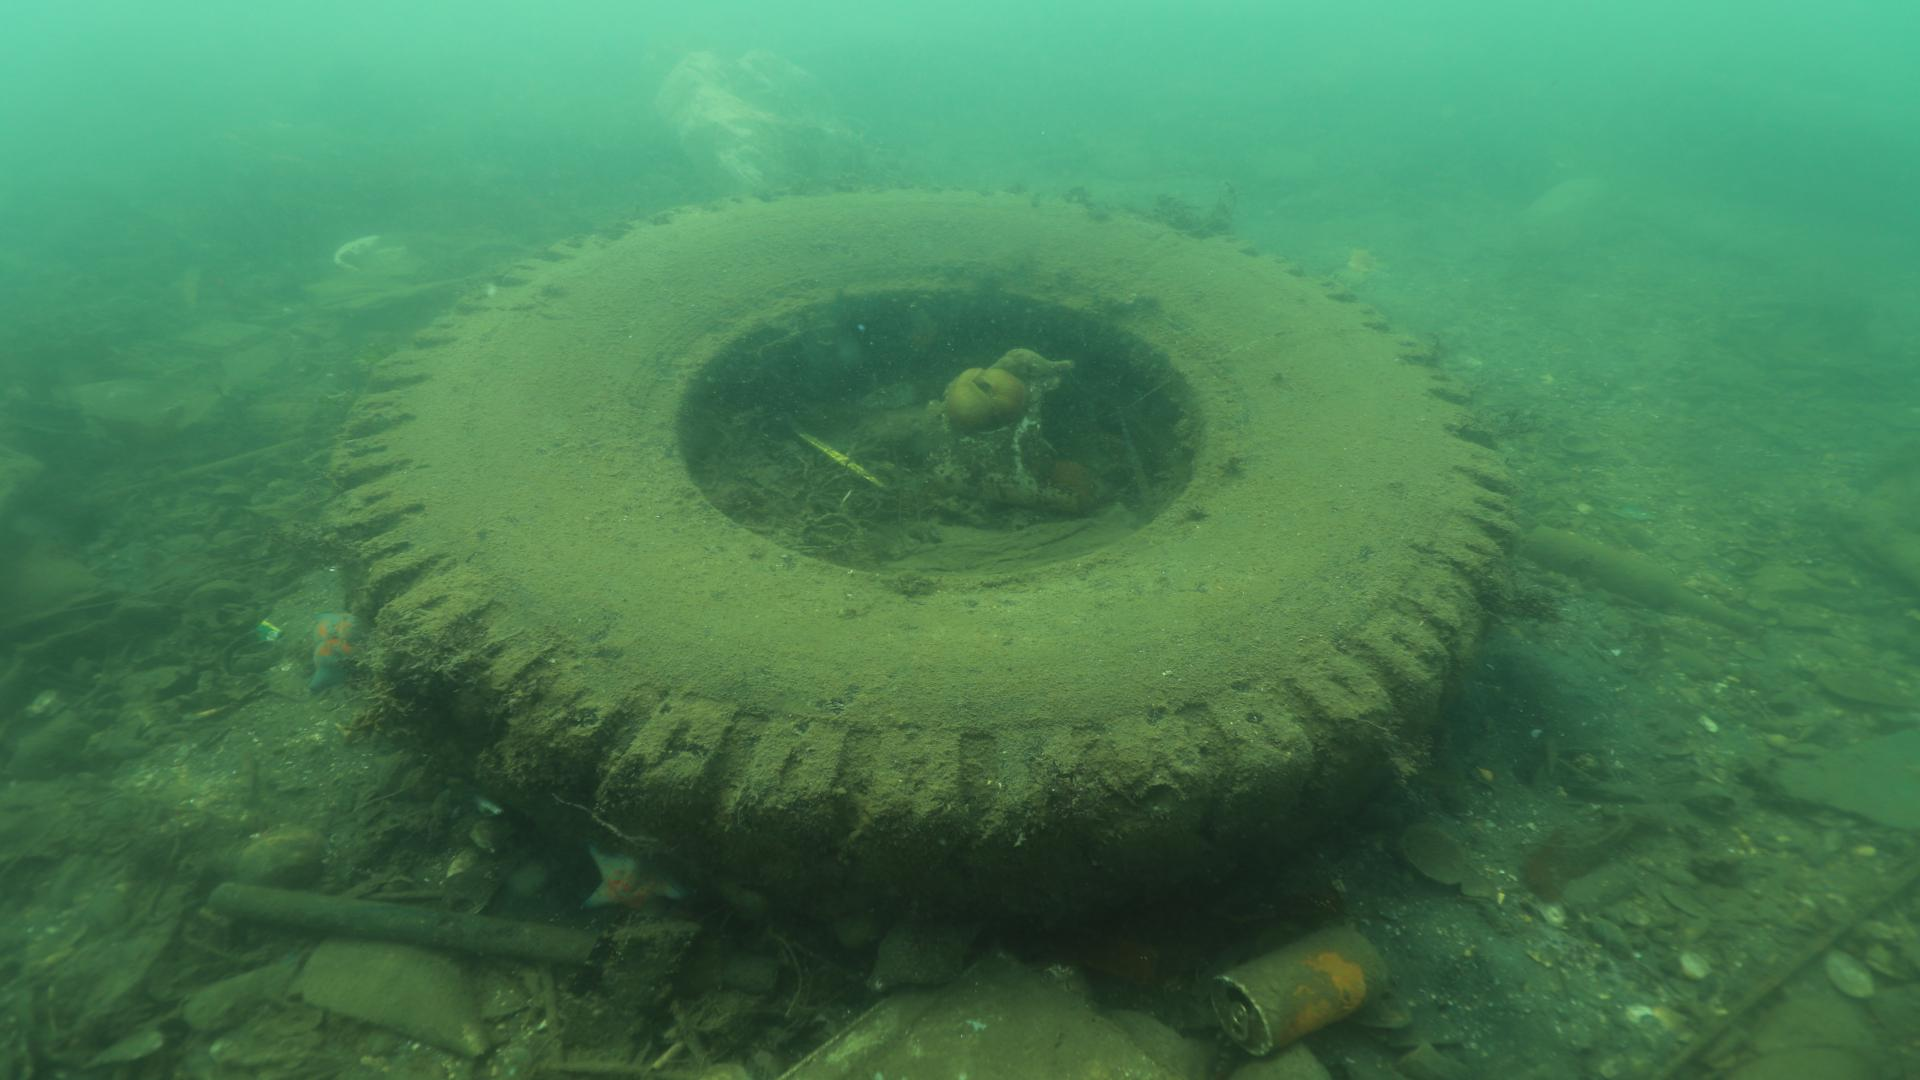tire: (320, 179, 1516, 928)
